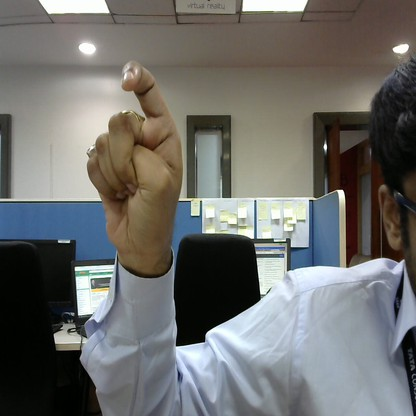x: (83, 60, 190, 262)
